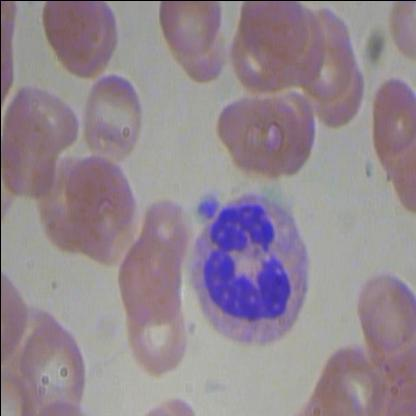RBC: (64, 152, 148, 272), (210, 92, 298, 183), (18, 320, 92, 410), (113, 235, 187, 324), (78, 64, 145, 162), (350, 265, 416, 355), (119, 298, 190, 378), (240, 1, 309, 71), (37, 1, 108, 68), (154, 1, 222, 60), (366, 75, 415, 155)
WBC: (179, 183, 312, 353)
